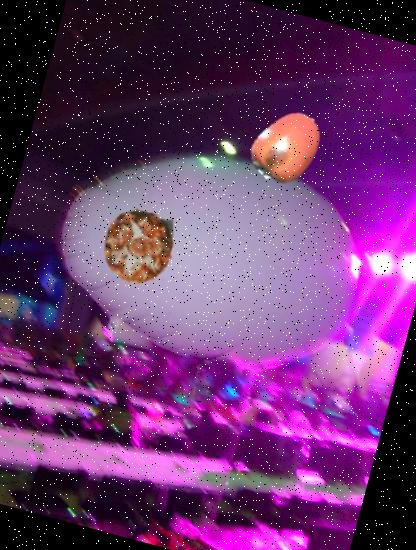Kaki: (241, 101, 335, 195)
Pineapple: (92, 200, 184, 294)
